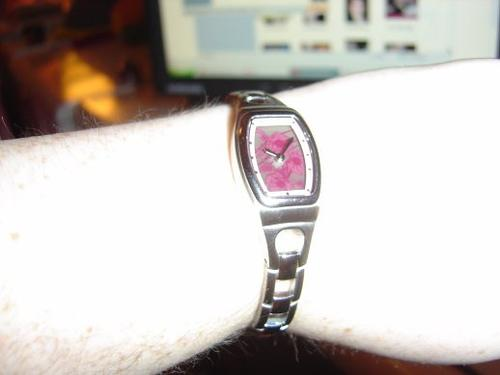watch: (214, 88, 331, 223)
